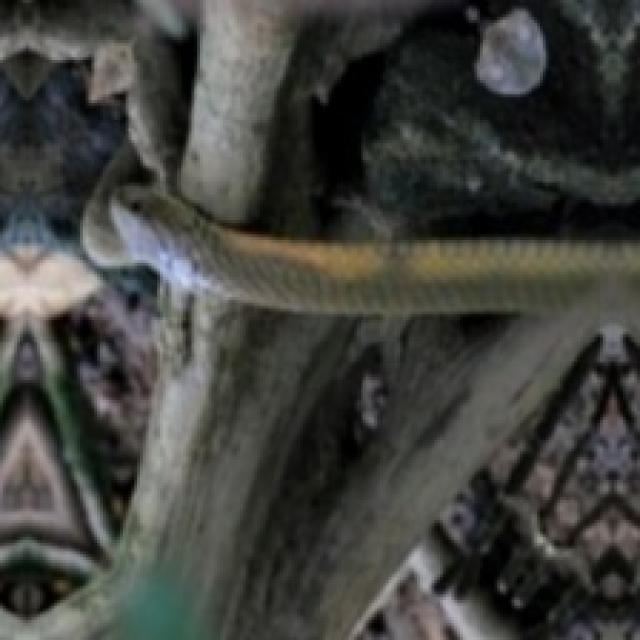king cobra: (111, 185, 640, 314)
